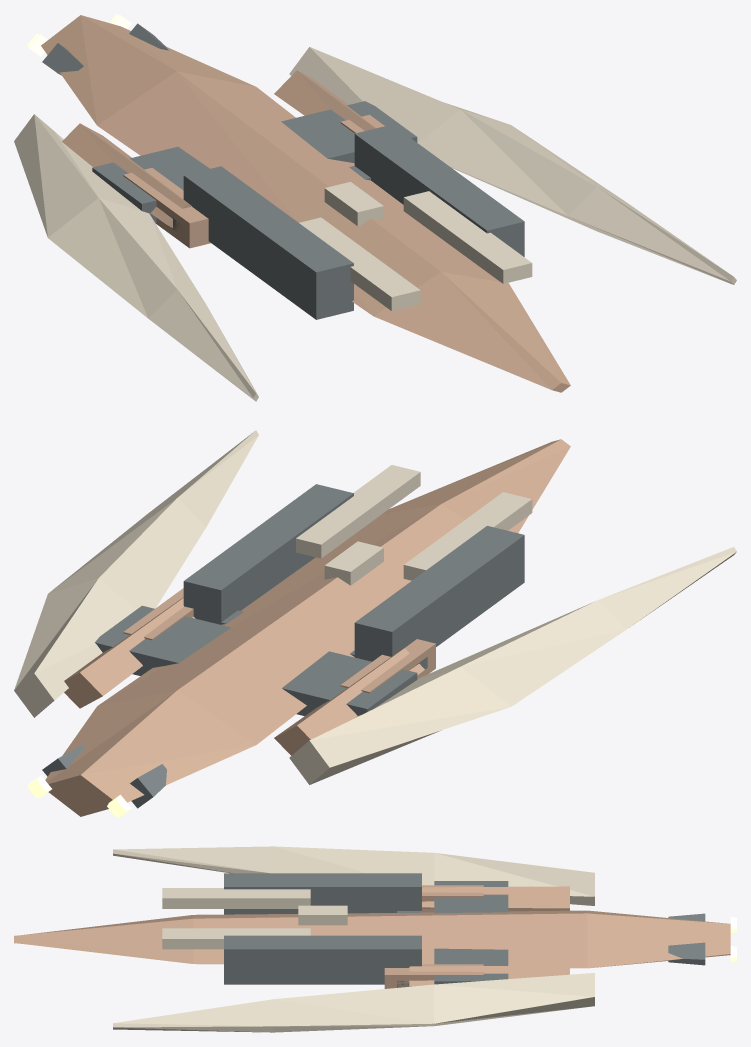
The picture shows the model from 3 angles, top to bottom: view 1: azimuth 30°, elevation 25°; view 2: azimuth 150°, elevation 25°; view 3: azimuth 270°, elevation 25°; orthographic projection. The views are drawn at different scales.
Bounding box in the file's own units: 7.75 × 1.13 × 13.45.
